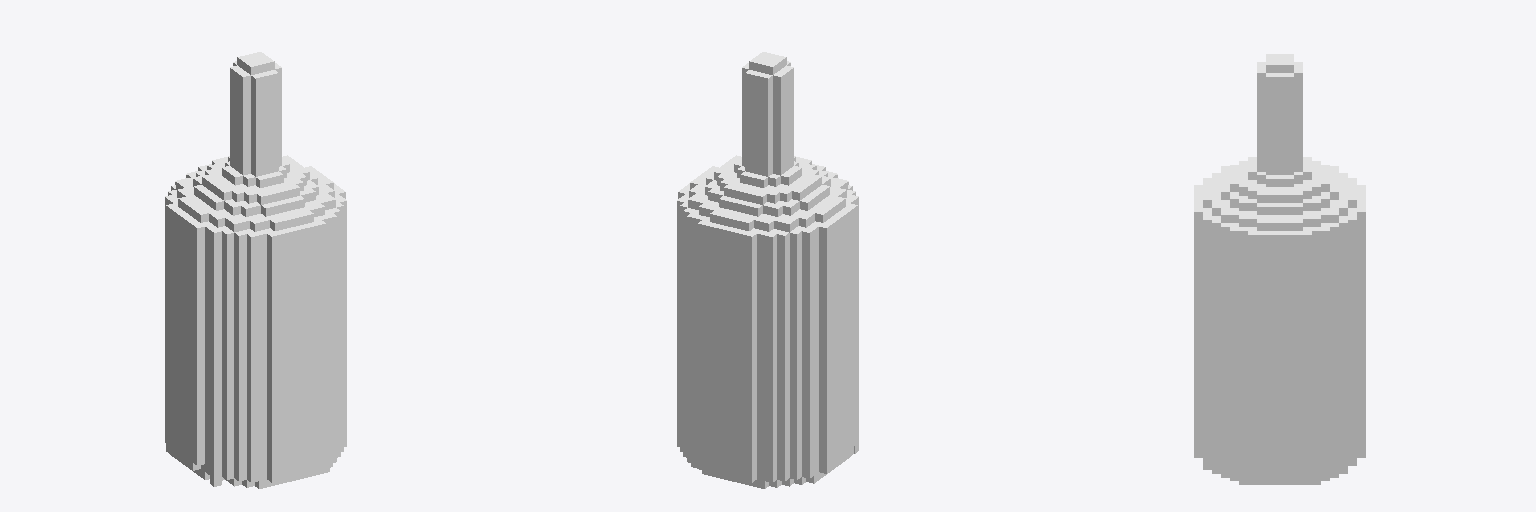
Rendered from bottle.obj.
The picture shows the model from 3 angles: view 1: azimuth 30°, elevation 25°; view 2: azimuth 150°, elevation 25°; view 3: azimuth 270°, elevation 25°; orthographic projection.
Parts seen in each view (by area): view 1: object 1; view 2: object 1; view 3: object 1.
Part boxes in pixels (bbox=[...]): object 1: bbox=[165, 52, 346, 488]; object 1: bbox=[677, 52, 858, 488]; object 1: bbox=[1194, 54, 1365, 484].
Bounding box in the file's own units: 1.9 × 4.8 × 1.9.